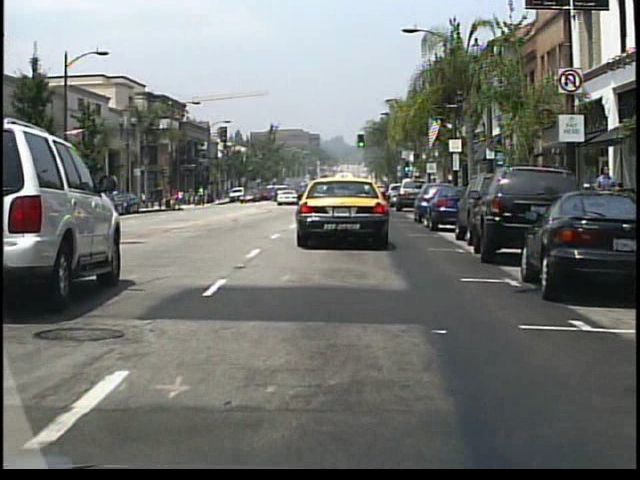person: (593, 163, 618, 233), (206, 190, 214, 208)
